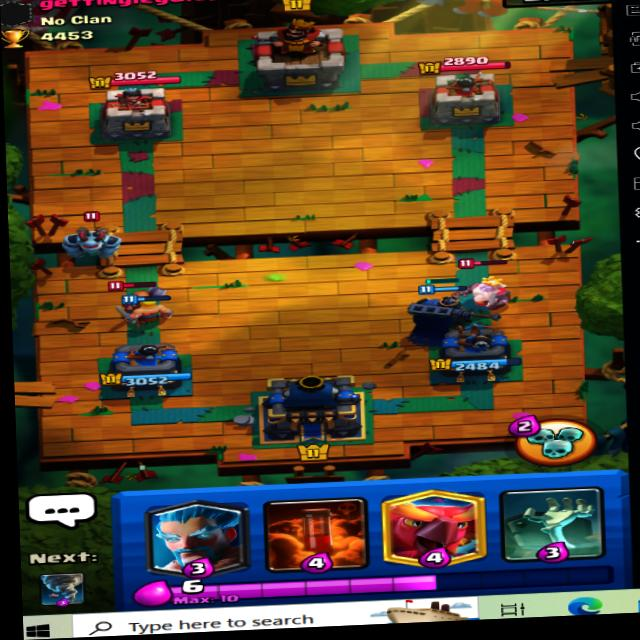mega-minion: (58, 214, 133, 265)
royal-ghost: (456, 249, 518, 317)
valkyrie: (108, 275, 166, 318)
